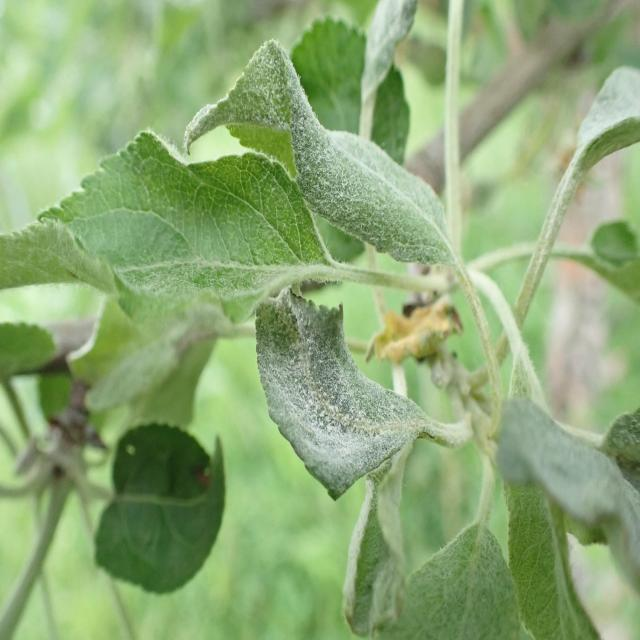Powdery_mildew: (197, 17, 455, 270), (243, 280, 475, 510), (495, 365, 640, 611), (529, 24, 640, 311)
